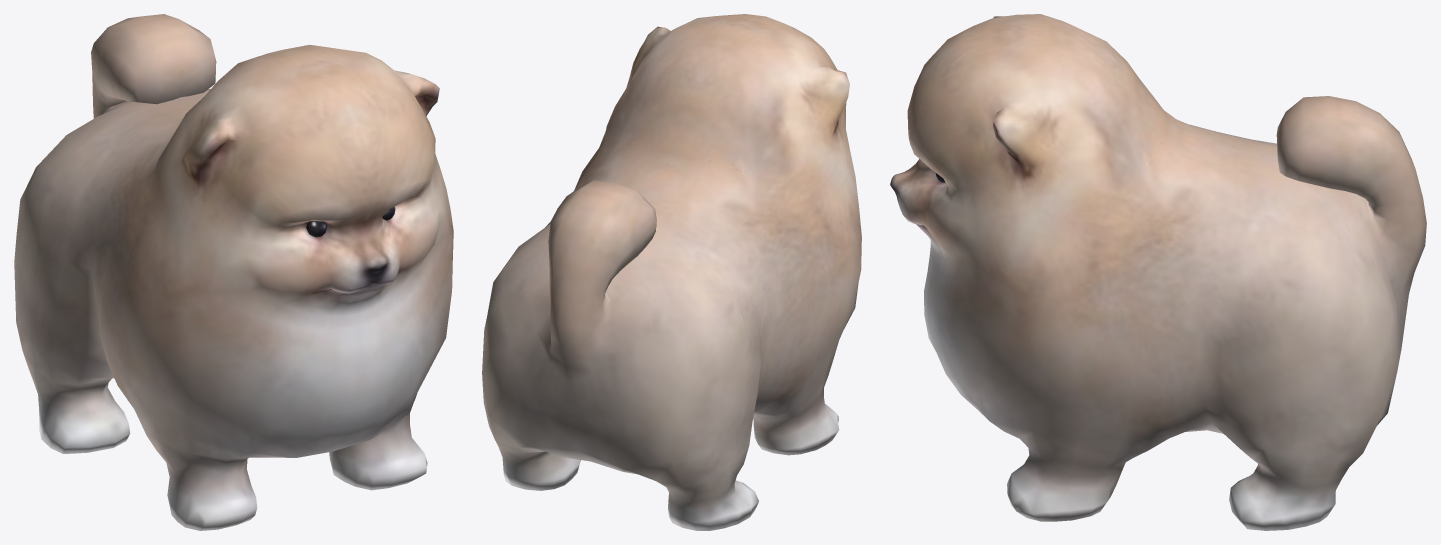
The model's file is Dog2_sample.fbx.
3 views of the same model, side by side, from view 1: azimuth 30°, elevation 25°; view 2: azimuth 150°, elevation 25°; view 3: azimuth 270°, elevation 25° (orthographic). The views are drawn at different scales.
Parts seen in each view (by area): view 1: Final_furFull_Dog2; view 2: Final_furFull_Dog2; view 3: Final_furFull_Dog2.
Boxes of the visible parts, left/top/right/bottom form: Final_furFull_Dog2: left=14, top=14, right=453, bottom=530; Final_furFull_Dog2: left=482, top=14, right=861, bottom=530; Final_furFull_Dog2: left=890, top=14, right=1426, bottom=530.
Bounding box in the file's own units: 30.09 × 41.44 × 46.47.
1 material, 1 textured.
